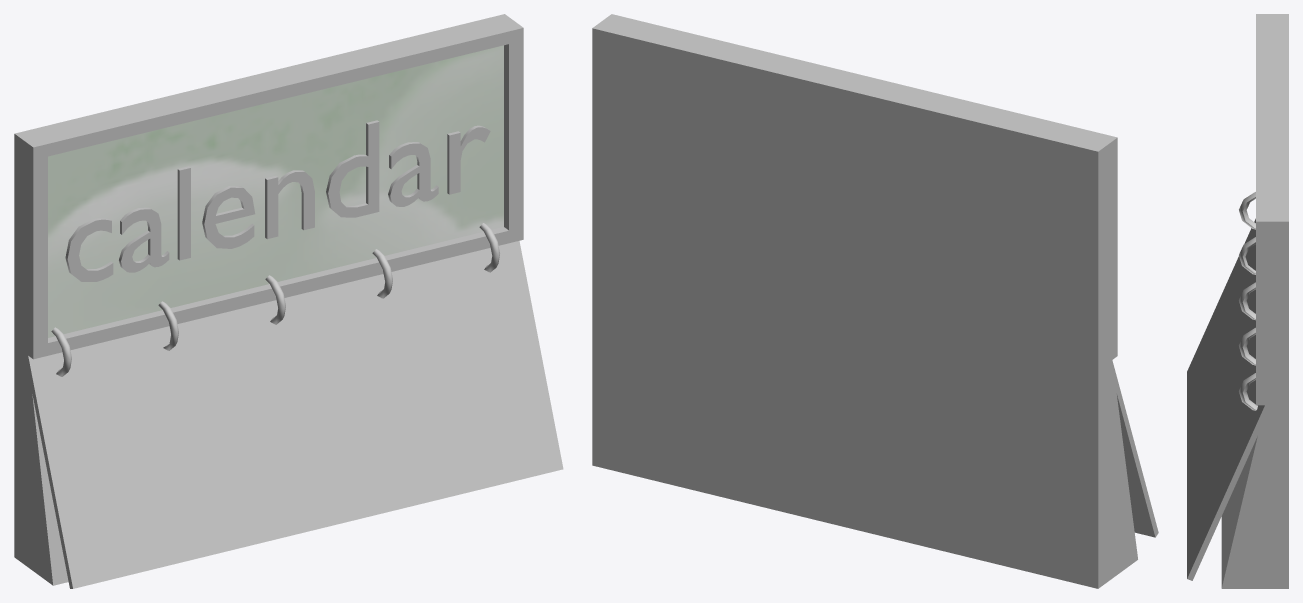
File: SM_Props_Decor_01.fbx
The picture shows the model from 3 angles, left to right: view 1: azimuth 30°, elevation 25°; view 2: azimuth 150°, elevation 25°; view 3: azimuth 270°, elevation 25°; orthographic projection. The views are drawn at different scales.
Parts seen in each view (by area): view 1: SM_Props_Decor_01; view 2: SM_Props_Decor_01; view 3: SM_Props_Decor_01.
Boxes of the visible parts, bbox=[...] form: SM_Props_Decor_01: bbox=[14, 14, 563, 588]; SM_Props_Decor_01: bbox=[592, 14, 1158, 588]; SM_Props_Decor_01: bbox=[1187, 14, 1288, 588].
Size of the model in its own units: 0.414 by 0.3419 by 0.0858.
